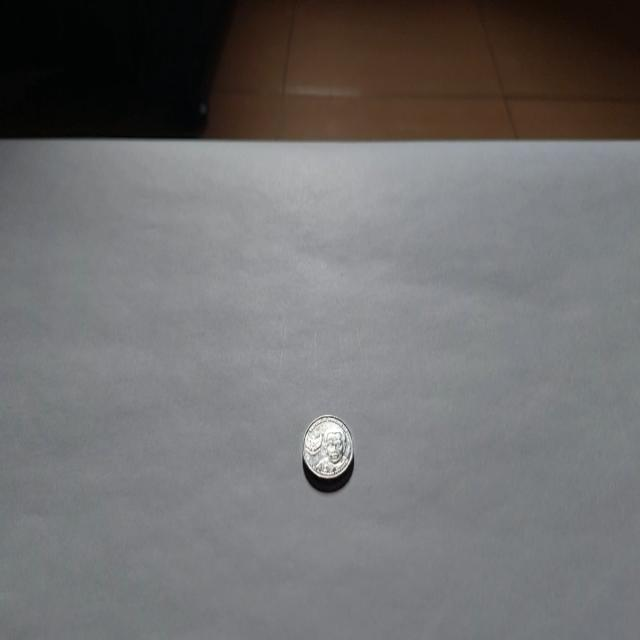seratus rupiah: (302, 412, 354, 488)
